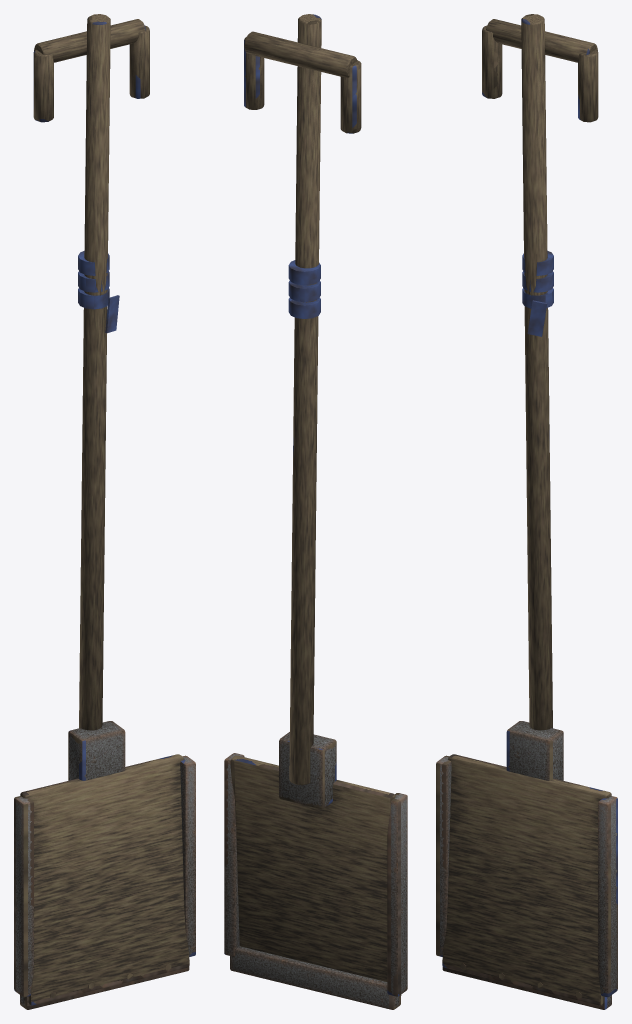
Rendered from g67_lost_shovel.glb.
3 renders of one model, left to right at view 1: azimuth 30°, elevation 25°; view 2: azimuth 150°, elevation 25°; view 3: azimuth 330°, elevation 25°, orthographic.
Visible parts, largest first — view 1: scoop, stick, side, clamp, side.001, grip, grip_leg, grip_leg.001, edge, tape; view 2: scoop, stick, edge, side, clamp, grip, side.001, grip_leg, grip_leg.001, tape.002, tape.001, tape; view 3: scoop, stick, side.001, clamp, side, grip, grip_leg.001, grip_leg, edge, tape_tail.
Boxes of the visible parts, box(x1,y1,x2,y2) form: scoop: box(20, 754, 189, 1005); stick: box(79, 14, 110, 730); side: box(14, 796, 33, 997); clamp: box(68, 721, 125, 780); side.001: box(180, 755, 195, 956); grip: box(34, 19, 145, 62); grip_leg: box(33, 50, 53, 122); grip_leg.001: box(129, 25, 149, 98); edge: box(20, 967, 189, 1009); tape: box(78, 288, 109, 309); scoop: box(230, 755, 401, 995); stick: box(289, 14, 321, 785); edge: box(230, 946, 400, 1009); side: box(387, 793, 407, 996); clamp: box(279, 732, 336, 808); grip: box(244, 31, 357, 77); side.001: box(224, 753, 244, 956); grip_leg: box(340, 60, 361, 133); grip_leg.001: box(244, 36, 264, 109); tape.002: box(288, 260, 320, 285); tape.001: box(288, 280, 320, 302); tape: box(288, 297, 320, 318); scoop: box(442, 754, 611, 1005); stick: box(521, 14, 552, 730); side.001: box(598, 796, 617, 997); clamp: box(506, 721, 563, 780); side: box(436, 755, 451, 956); grip: box(486, 19, 597, 62); grip_leg.001: box(578, 50, 598, 122); grip_leg: box(482, 25, 502, 98); edge: box(442, 967, 611, 1009); tape_tail: box(527, 300, 547, 336).
Bounding box in the file's own units: 0.271 × 1.44 × 0.0716.
Materials: 1 (1 with a texture image).
